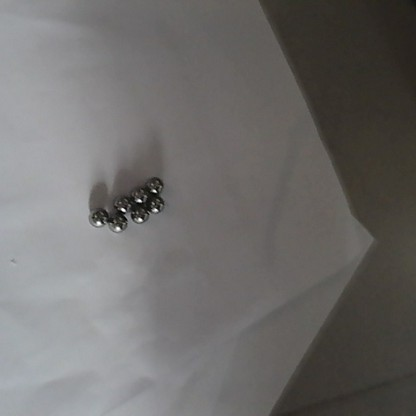ironball: (83, 205, 109, 227), (127, 206, 150, 227), (129, 185, 150, 206), (107, 211, 128, 232), (108, 193, 132, 211), (146, 193, 163, 216), (144, 175, 164, 193)
